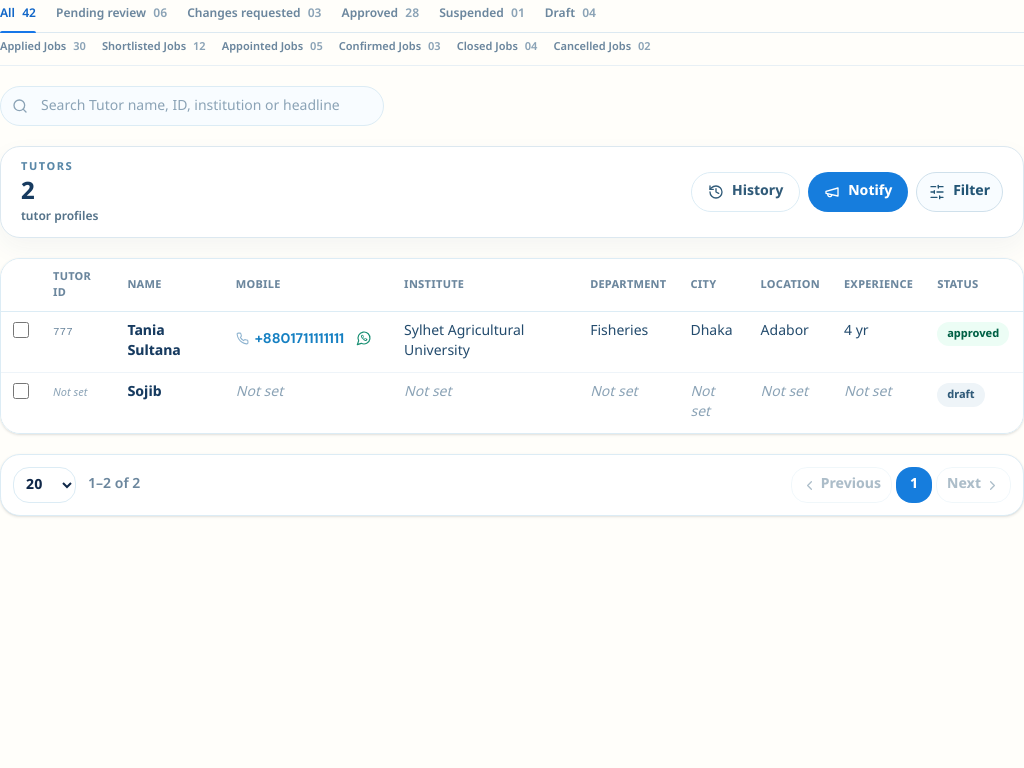
Notify Tutors › keeps Review & send disabled until both a title and a message are typed
The image size is (1024, 768).
Click the button "Notify": click(858, 192) x1=808 y1=172 x2=908 y2=212
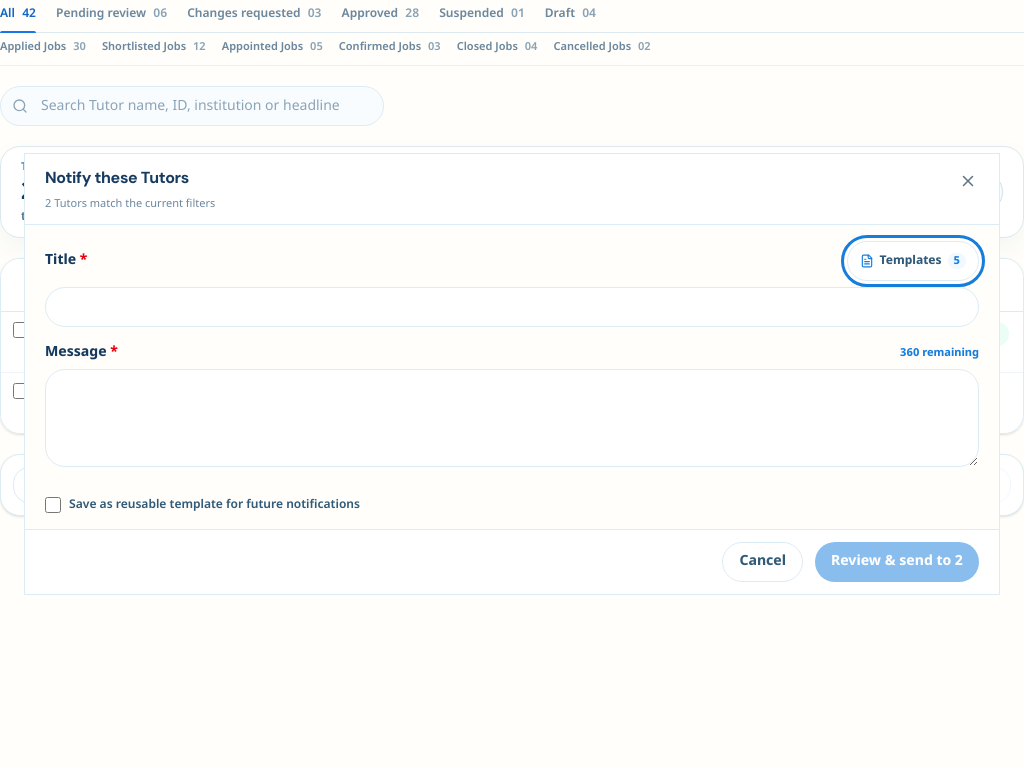
Check: the button "Review & send to 2" is disabled, box x1=815 y1=542 x2=979 y2=582
In the field labelled "Title *": (512, 307) x1=45 y1=287 x2=979 y2=327, type "Platform maintenance"
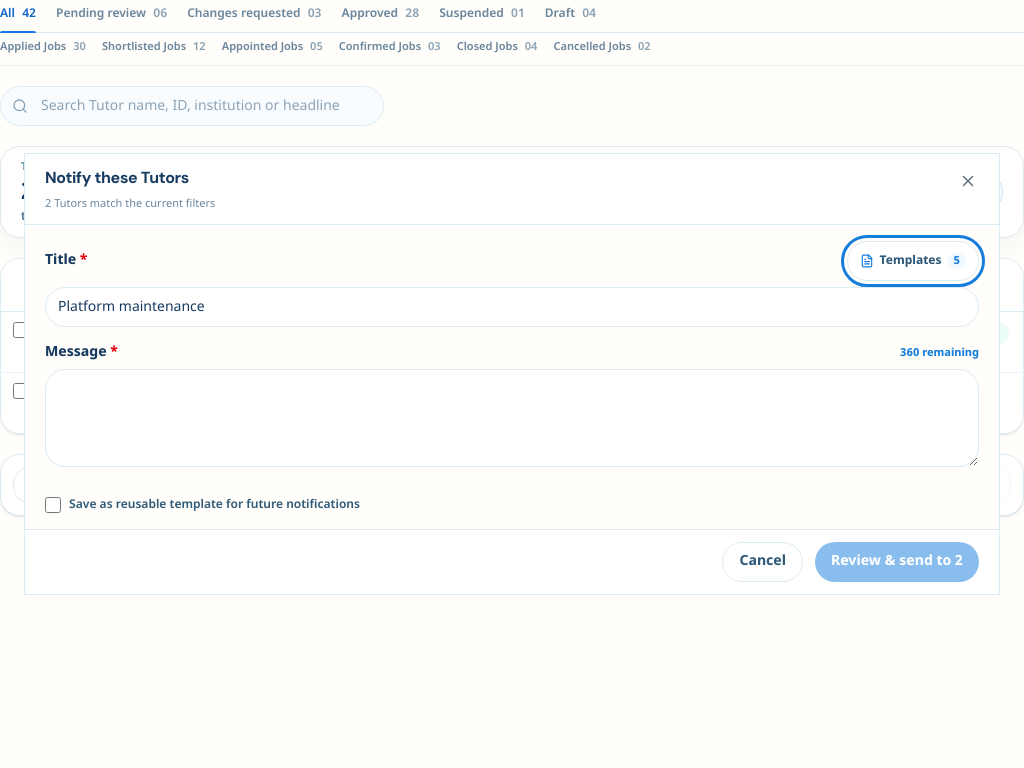
Check: the button "Review & send to 2" is disabled, box x1=815 y1=542 x2=979 y2=582
In the text box labelled "Message *": (512, 418) x1=45 y1=369 x2=979 y2=467, type "We are pausing new applications for an hour tonight."
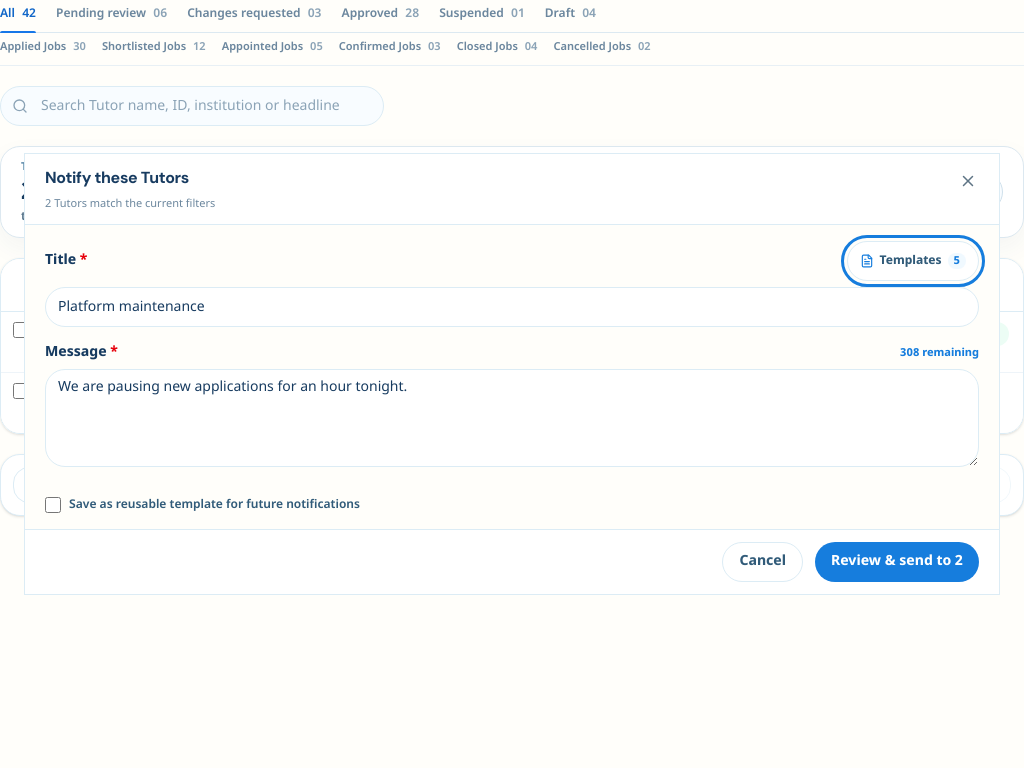
Check: the button "Review & send to 2" is enabled, box x1=815 y1=542 x2=979 y2=582
